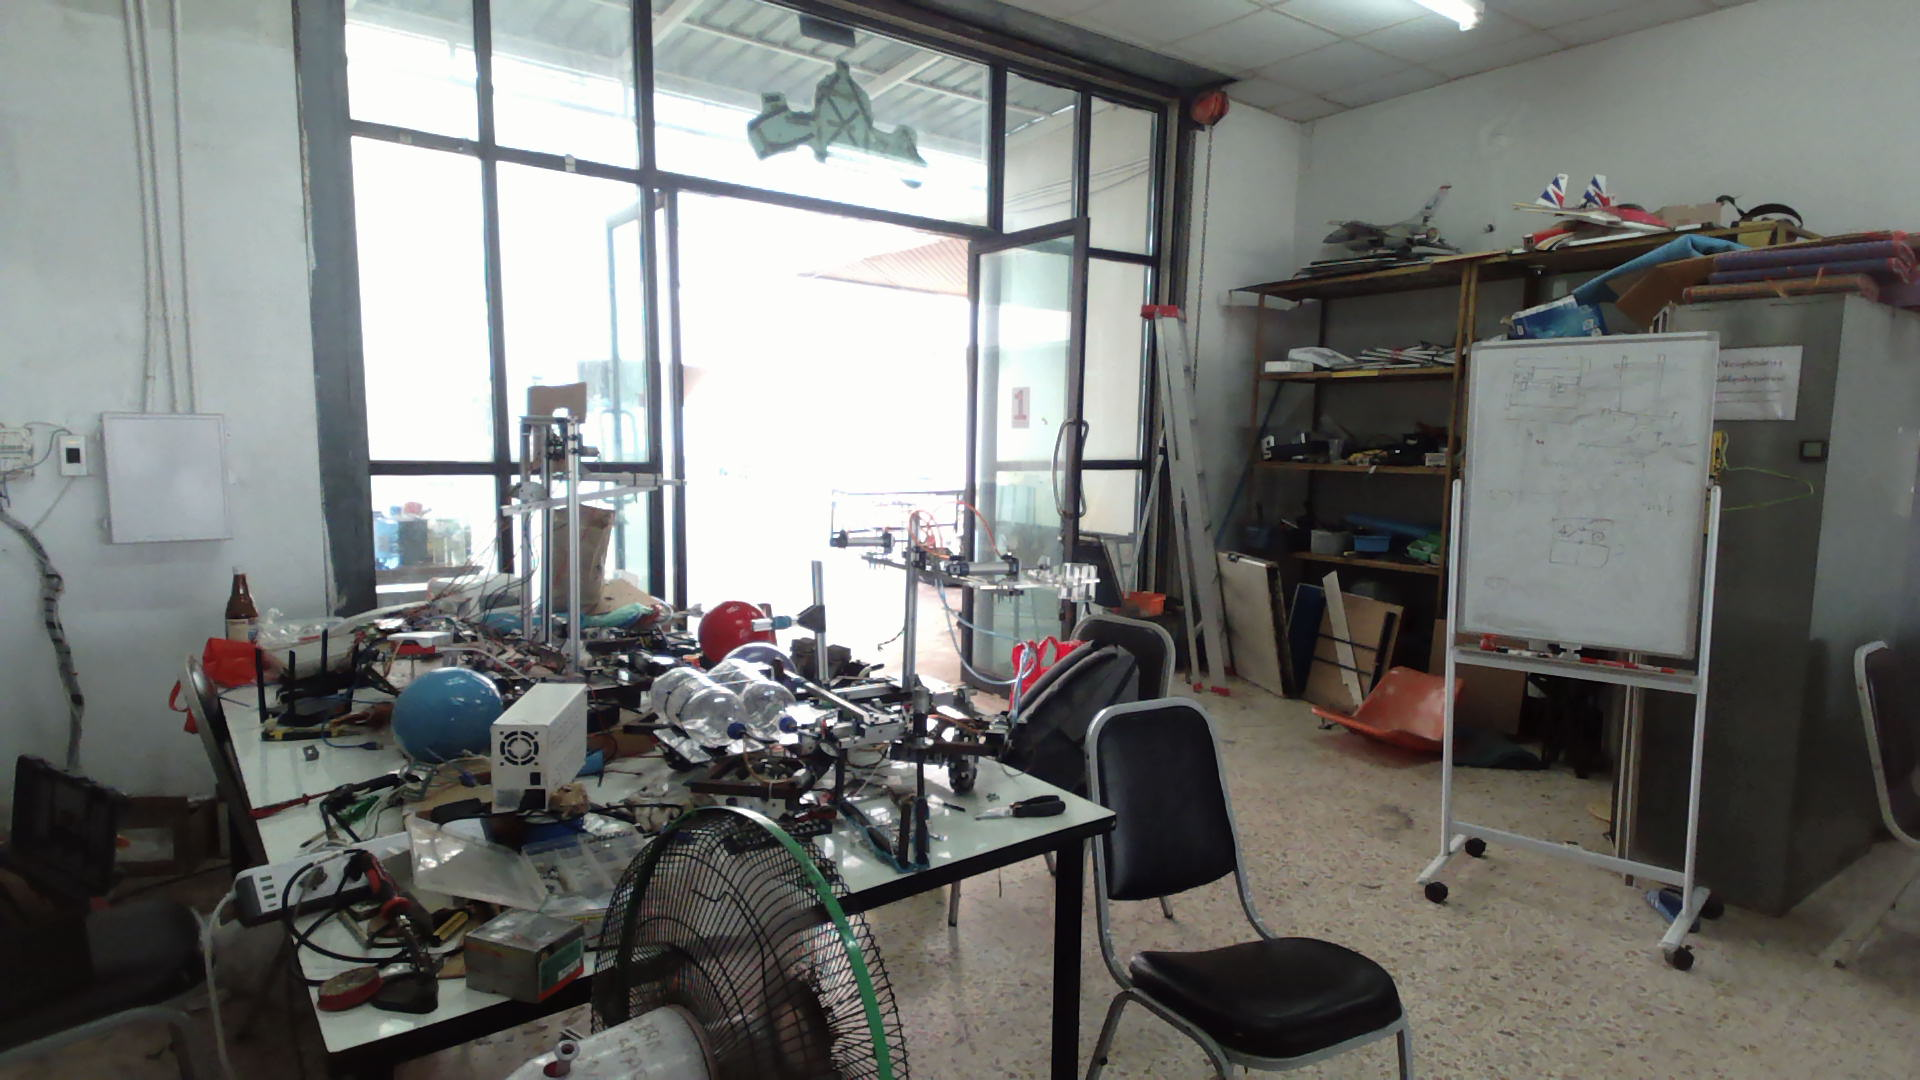Blue ball: (392, 663, 506, 757)
Red ball: (698, 599, 774, 655)
